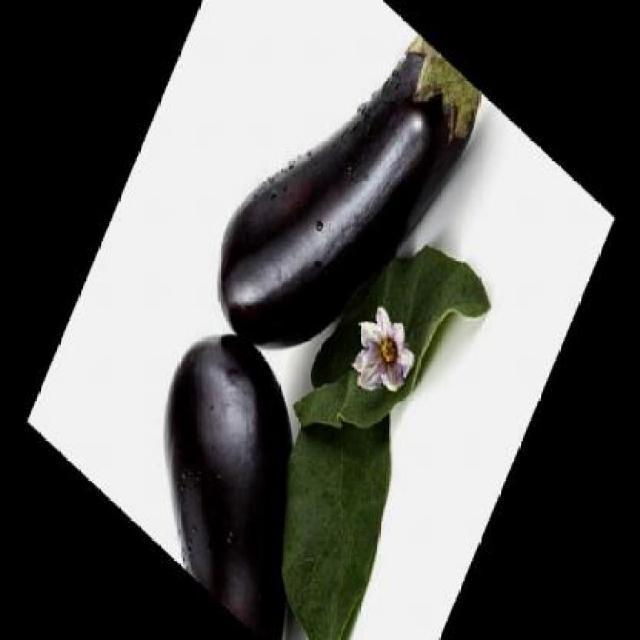eggplant: (197, 0, 488, 437), (117, 303, 374, 639)
